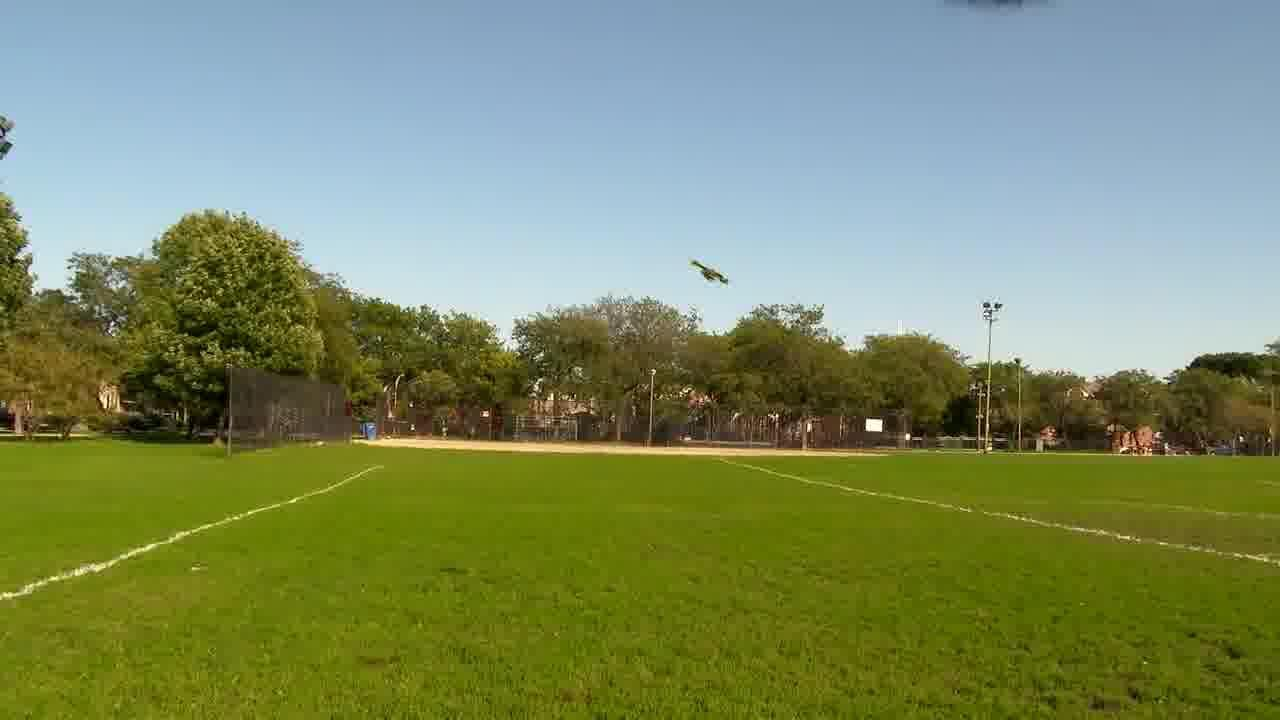drone: (684, 240, 739, 291)
